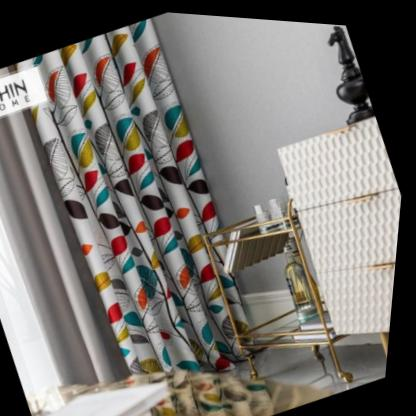Curtains: (0, 4, 297, 416)
